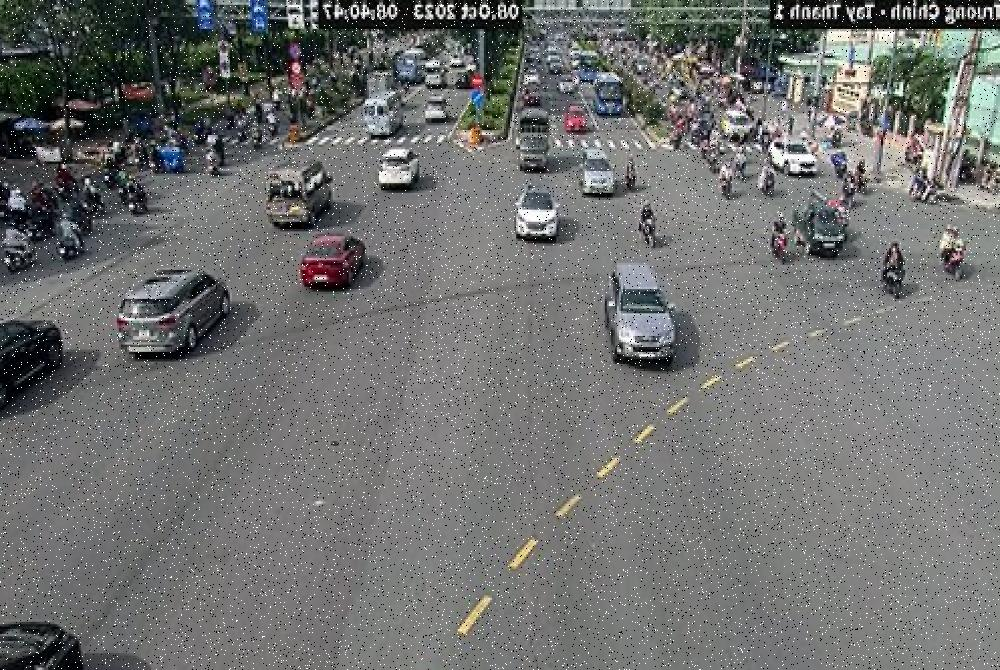car: (114, 268, 228, 361), (605, 265, 678, 369), (0, 311, 65, 422), (265, 155, 332, 230), (0, 617, 87, 670), (298, 231, 366, 293), (512, 176, 560, 245), (376, 148, 418, 190)
truck: (516, 103, 552, 173)
